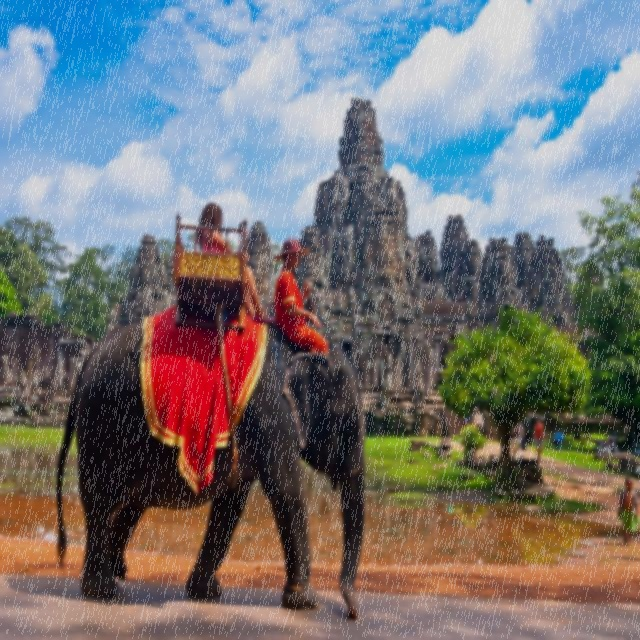pessoa: (196, 202, 276, 324), (272, 236, 329, 355), (616, 474, 640, 547), (510, 420, 526, 460), (532, 417, 546, 460), (490, 384, 506, 404), (532, 427, 546, 447), (552, 427, 562, 450), (474, 412, 483, 434), (464, 406, 472, 426), (434, 370, 440, 392), (438, 368, 443, 386), (441, 372, 448, 382), (473, 405, 478, 412)
